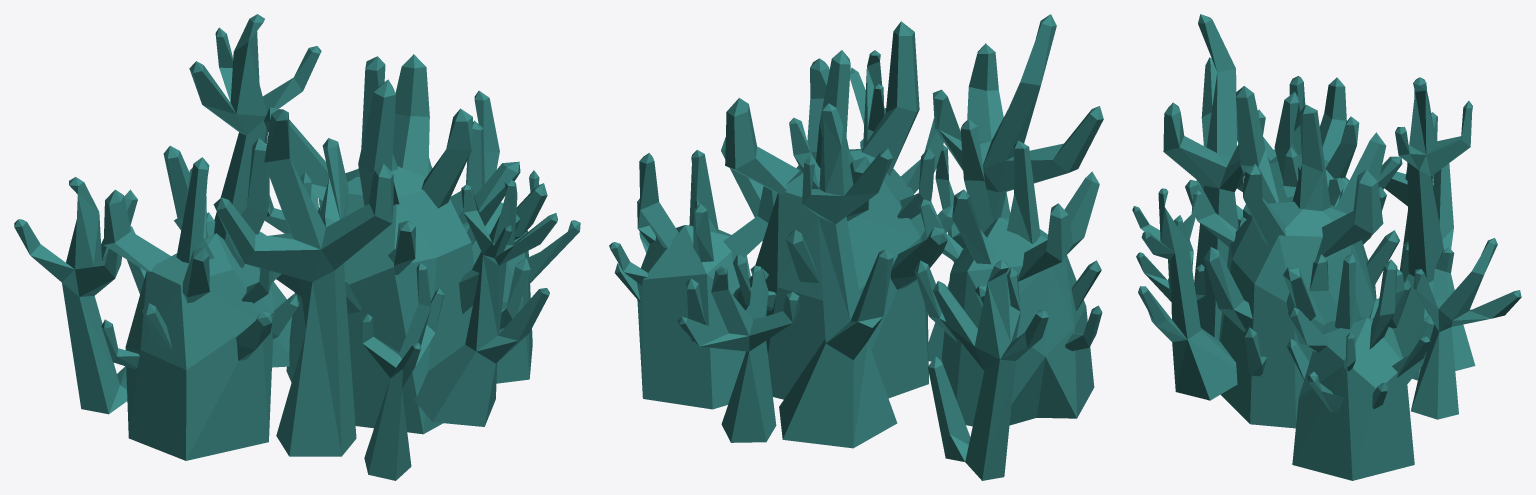
File: SM_Coral_Staghorn_Group_A.fbx
3 views of the same model, side by side, from view 1: azimuth 30°, elevation 25°; view 2: azimuth 150°, elevation 25°; view 3: azimuth 270°, elevation 25° (orthographic). The views are drawn at different scales.
Parts seen in each view (by area): view 1: coral-staghorn-group-a; view 2: coral-staghorn-group-a; view 3: coral-staghorn-group-a.
Part boxes in pixels (x1,y1,x2,y2): coral-staghorn-group-a: [14, 14, 580, 480]; coral-staghorn-group-a: [609, 14, 1103, 480]; coral-staghorn-group-a: [1132, 14, 1521, 480].
Size of the model in its own units: 1.29 by 0.9696 by 1.03.
